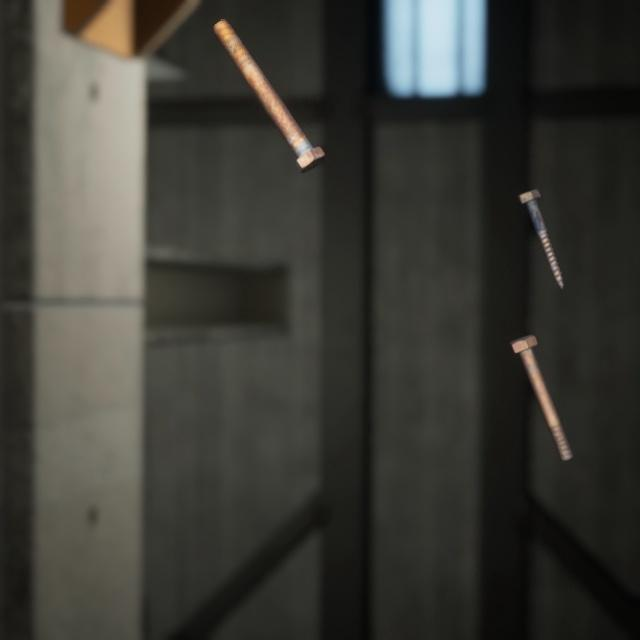bolt: (208, 3, 329, 165), (504, 310, 577, 446), (512, 168, 568, 277)
